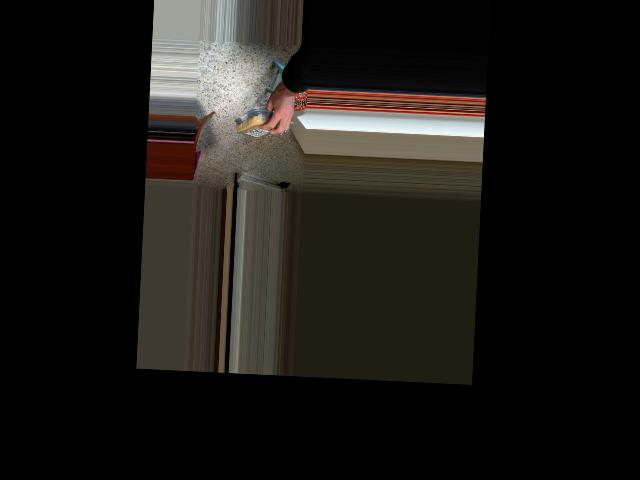cheese: (232, 106, 287, 141)
